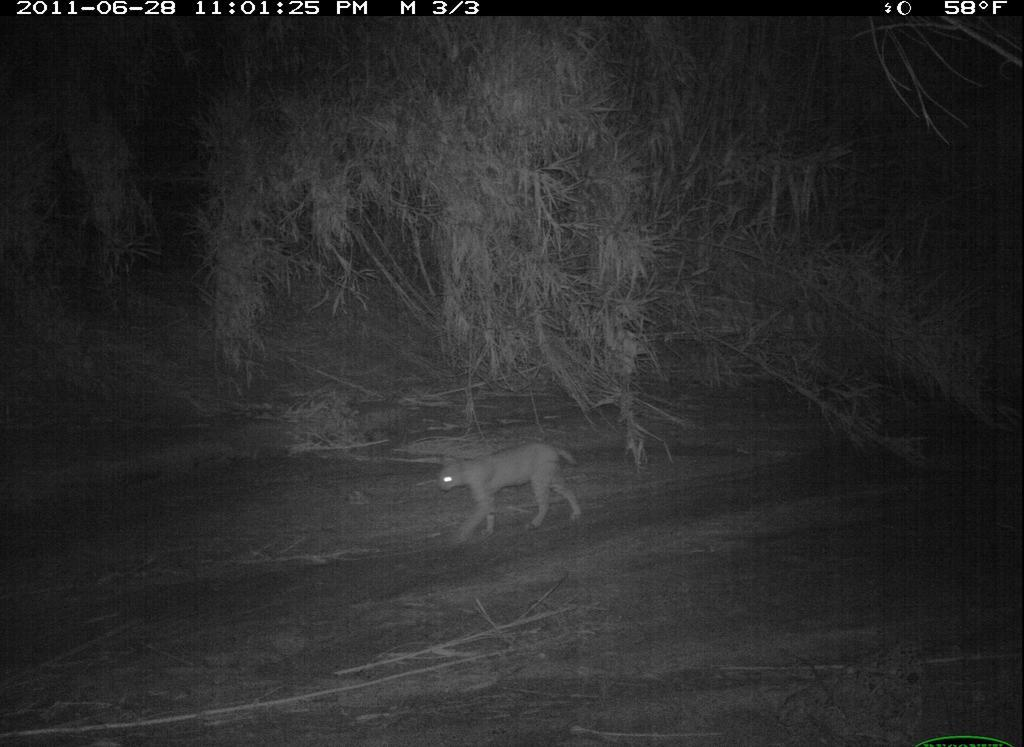bobcat: (432, 440, 589, 550)
